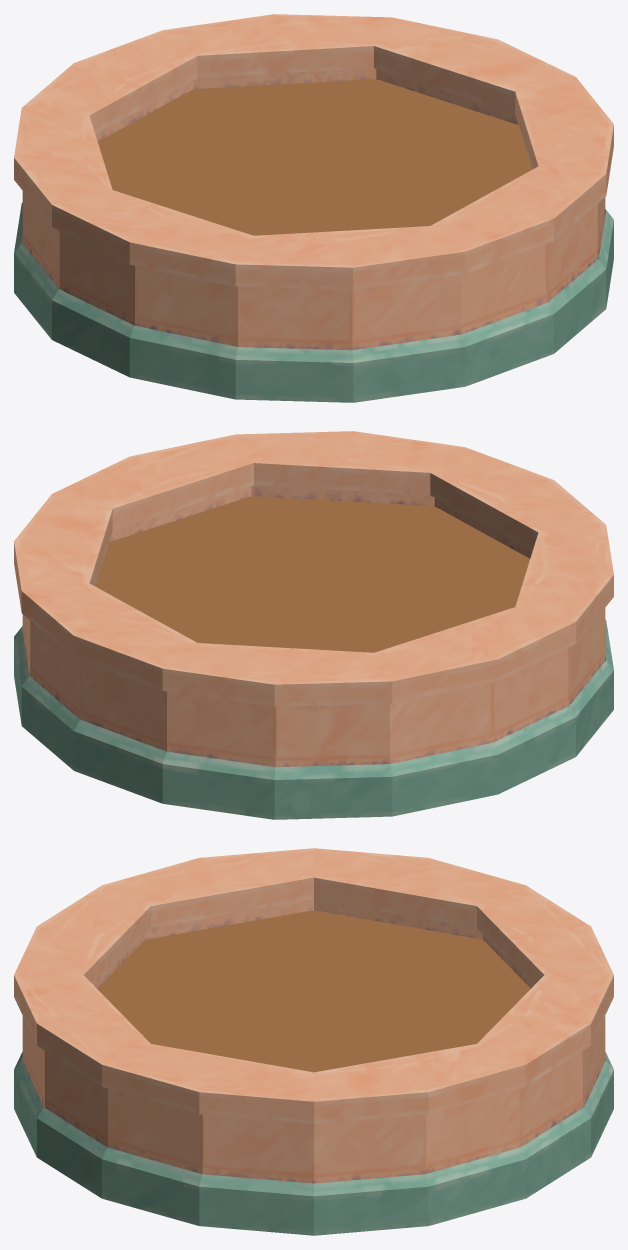
File: vat_saffron.bundle.fbx
3 views of the same model, one above another, from view 1: azimuth 30°, elevation 25°; view 2: azimuth 150°, elevation 25°; view 3: azimuth 270°, elevation 25° (orthographic).
Parts seen in each view (by area): view 1: vat_saffron, vat_saffron_low, vat_saffron_s07, vat_saffron_s04, vat_saffron_s03, vat_saffron_s06, vat_saffron_s00, vat_saffron_s05, vat_saffron_s01, vat_saffron_s02; view 2: vat_saffron, vat_saffron_low, vat_saffron_s02, vat_saffron_s05, vat_saffron_s04, vat_saffron_s06, vat_saffron_s07; view 3: vat_saffron, vat_saffron_low, vat_saffron_s06, vat_saffron_s01, vat_saffron_s03, vat_saffron_s02, vat_saffron_s00, vat_saffron_s05, vat_saffron_s04.
Boxes of the visible parts, x1=… form: vat_saffron: x1=14, y1=14, x2=613, y2=402; vat_saffron_low: x1=22, y1=17, x2=605, y2=347; vat_saffron_s07: x1=188, y1=21, x2=377, y2=120; vat_saffron_s04: x1=369, y1=18, x2=576, y2=126; vat_saffron_s03: x1=22, y1=78, x2=274, y2=151; vat_saffron_s06: x1=23, y1=113, x2=244, y2=290; vat_saffron_s00: x1=76, y1=29, x2=340, y2=116; vat_saffron_s05: x1=429, y1=79, x2=603, y2=220; vat_saffron_s01: x1=234, y1=121, x2=438, y2=235; vat_saffron_s02: x1=187, y1=200, x2=510, y2=262; vat_saffron: x1=14, y1=431, x2=613, y2=819; vat_saffron_low: x1=22, y1=434, x2=605, y2=764; vat_saffron_s02: x1=336, y1=442, x2=605, y2=586; vat_saffron_s05: x1=66, y1=434, x2=379, y2=575; vat_saffron_s04: x1=22, y1=493, x2=160, y2=677; vat_saffron_s06: x1=379, y1=550, x2=597, y2=658; vat_saffron_s07: x1=38, y1=583, x2=170, y2=654; vat_saffron: x1=14, y1=848, x2=613, y2=1235; vat_saffron_low: x1=15, y1=848, x2=613, y2=1183; vat_saffron_s06: x1=159, y1=848, x2=506, y2=981; vat_saffron_s01: x1=203, y1=959, x2=410, y2=1068; vat_saffron_s03: x1=394, y1=885, x2=553, y2=1050; vat_saffron_s02: x1=14, y1=876, x2=217, y2=1061; vat_saffron_s00: x1=411, y1=924, x2=613, y2=1064; vat_saffron_s05: x1=47, y1=1007, x2=328, y2=1099; vat_saffron_s04: x1=310, y1=1044, x2=533, y2=1101.
Bounding box in the file's own units: 6.9 × 1.7 × 6.9.
1 material, 1 textured.
